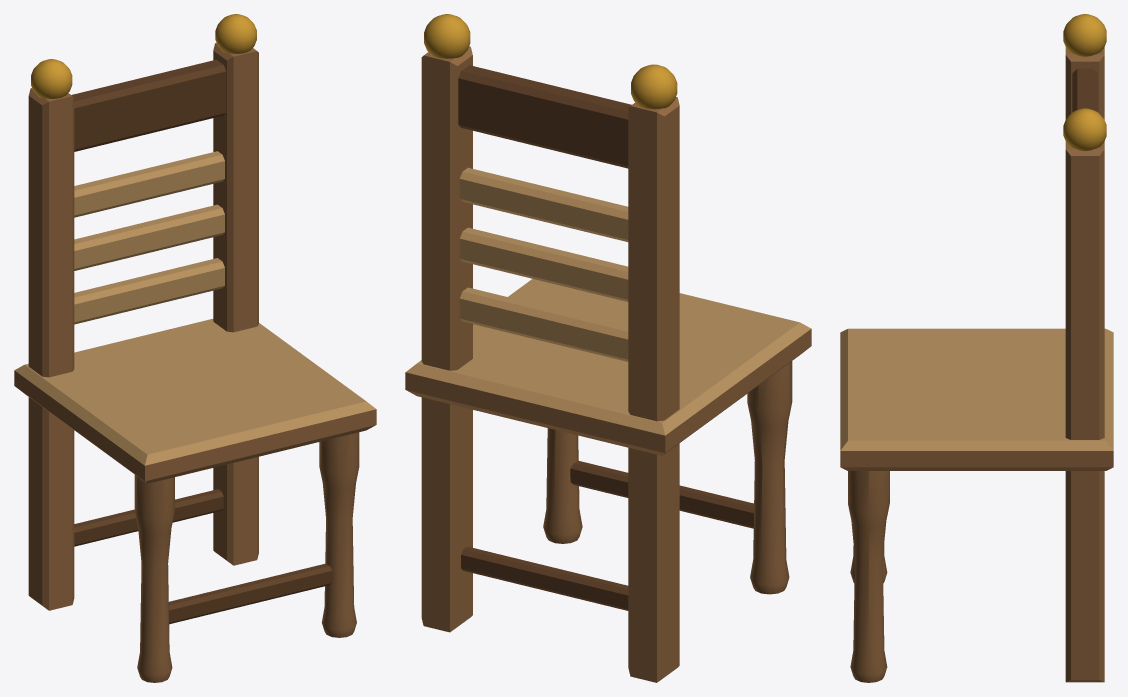
The model's file is Chair_02.glb.
3 views of the same model, side by side, from view 1: azimuth 30°, elevation 25°; view 2: azimuth 150°, elevation 25°; view 3: azimuth 270°, elevation 25° (orthographic). The views are drawn at different scales.
Parts seen in each view (by area): view 1: Chair_02; view 2: Chair_02; view 3: Chair_02.
Part boxes in pixels (bbox=[...]): Chair_02: bbox=[14, 14, 376, 682]; Chair_02: bbox=[405, 14, 811, 682]; Chair_02: bbox=[840, 14, 1113, 682].
Size of the model in its own units: 2.15 by 4.8 by 2.1.
